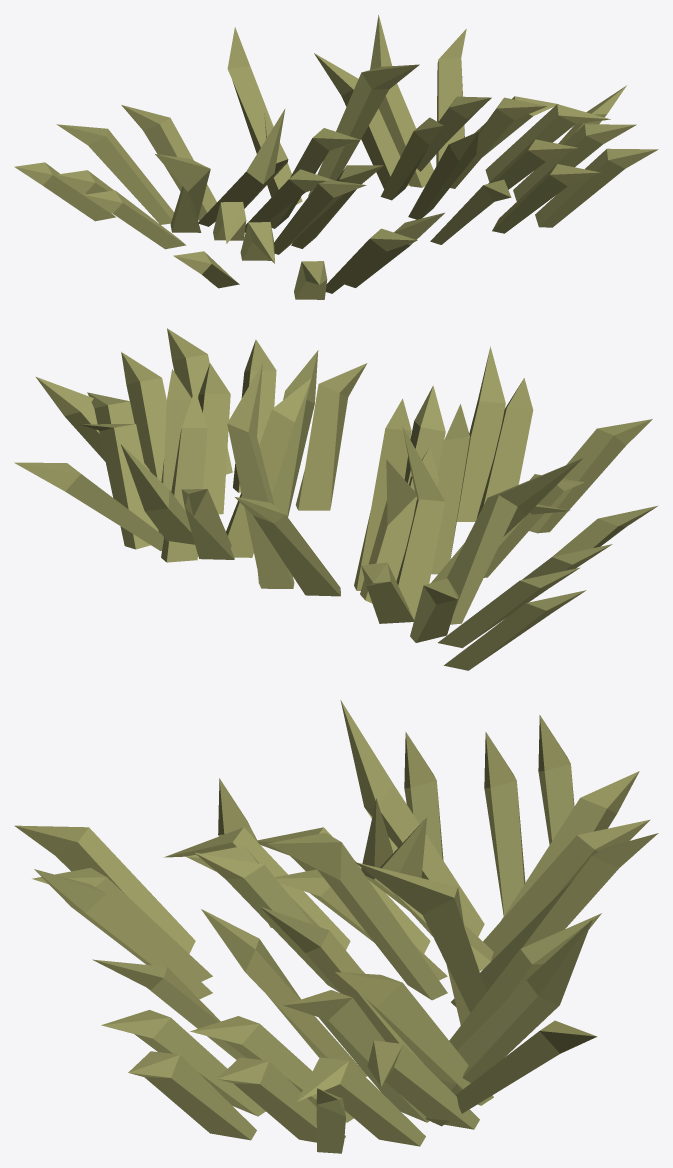
The model's file is grass.fbx.
3 renders of one model, top to bottom at view 1: azimuth 30°, elevation 25°; view 2: azimuth 150°, elevation 25°; view 3: azimuth 270°, elevation 25°, orthographic. The views are drawn at different scales.
Parts seen in each view (by area): view 1: Cube.030; view 2: Cube.030; view 3: Cube.030.
Boxes of the visible parts, x1,y1,x2,y2 form: Cube.030: (14,15,658,299); Cube.030: (14,328,658,670); Cube.030: (14,700,658,1153).
Bounding box in the file's own units: 268 × 70.12 × 190.
